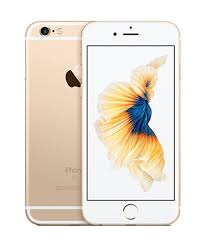iphone: (76, 16, 182, 228)
iphone6: (23, 17, 179, 227), (79, 17, 181, 229)
